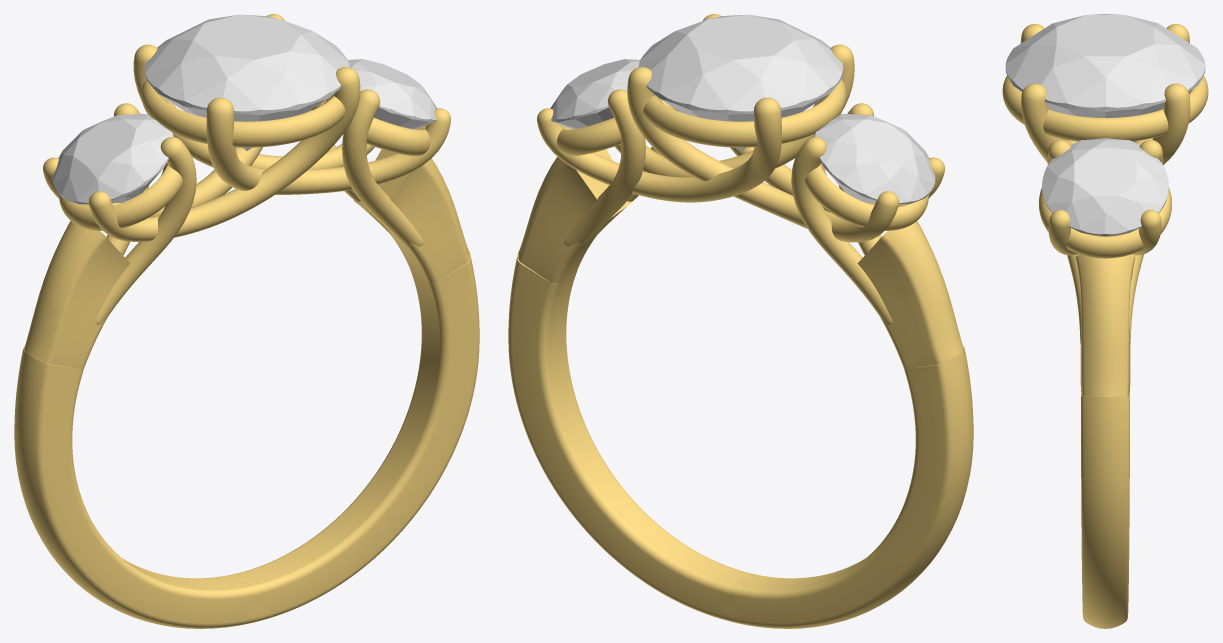
File: Sam3stoneNOcathedral_blender.glb
3 renders of one model, left to right at view 1: azimuth 30°, elevation 25°; view 2: azimuth 150°, elevation 25°; view 3: azimuth 270°, elevation 25°, orthographic. The views are drawn at different scales.
Parts seen in each view (by area): view 1: v2 Sam YG for 3d model, Sam dia for 3d model.001, Sam dia for 3d model, Sam dia for 3d model.002; view 2: v2 Sam YG for 3d model, Sam dia for 3d model.001, Sam dia for 3d model, Sam dia for 3d model.002; view 3: v2 Sam YG for 3d model, Sam dia for 3d model.001, Sam dia for 3d model.002.
Part boxes in pixels (left/top/right/bottom): v2 Sam YG for 3d model: left=14, top=14, right=479, bottom=628; Sam dia for 3d model.001: left=144, top=14, right=349, bottom=150; Sam dia for 3d model: left=52, top=114, right=173, bottom=204; Sam dia for 3d model.002: left=348, top=59, right=437, bottom=129; v2 Sam YG for 3d model: left=508, top=14, right=973, bottom=628; Sam dia for 3d model.001: left=638, top=14, right=843, bottom=150; Sam dia for 3d model: left=814, top=114, right=935, bottom=204; Sam dia for 3d model.002: left=550, top=59, right=639, bottom=129; v2 Sam YG for 3d model: left=1002, top=24, right=1208, bottom=628; Sam dia for 3d model.001: left=1005, top=14, right=1205, bottom=117; Sam dia for 3d model.002: left=1042, top=138, right=1168, bottom=236.
Size of the model in its own units: 20.92 by 25.56 by 8.39.
